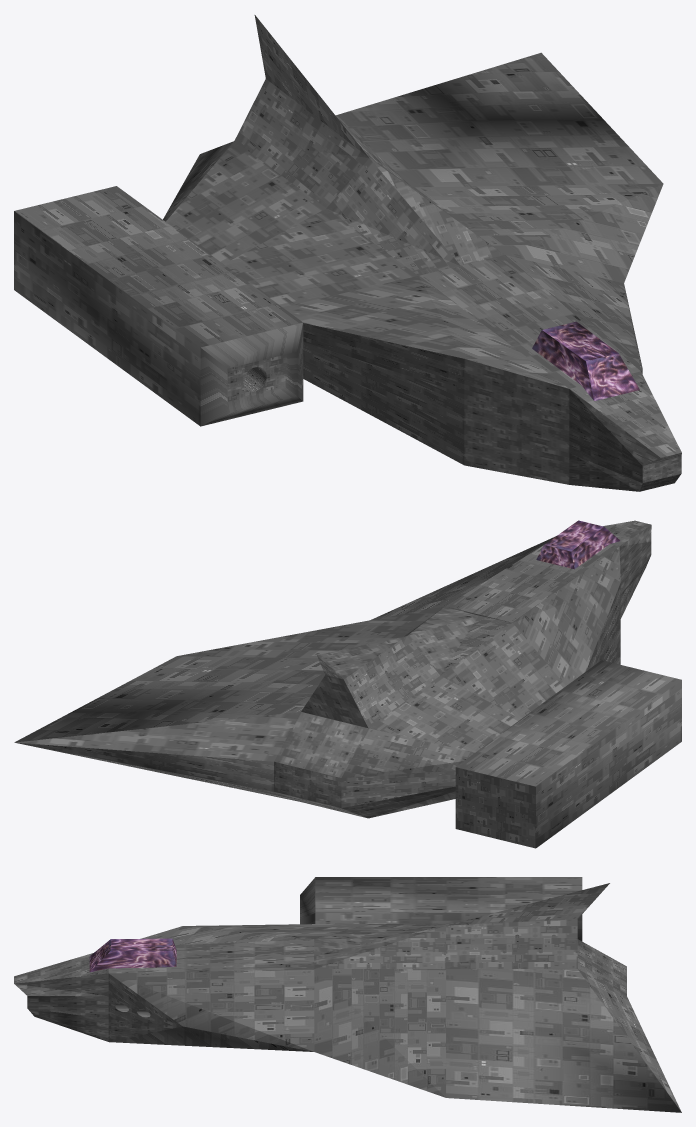
File: hammer.obj
3 renders of one model, top to bottom at view 1: azimuth 30°, elevation 25°; view 2: azimuth 150°, elevation 25°; view 3: azimuth 270°, elevation 25°, orthographic. The views are drawn at different scales.
Bounding box in the file's own units: 35.5 × 12.21 × 48.09.
